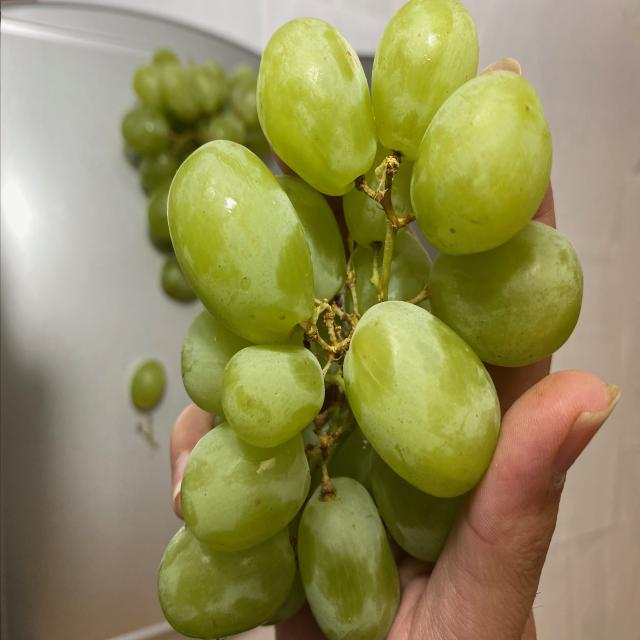grapes: (152, 2, 580, 638)
